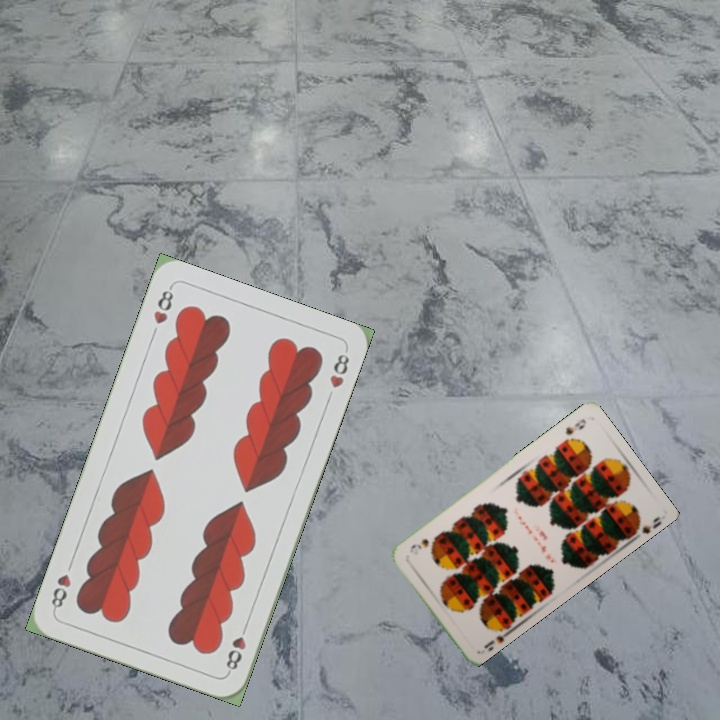H8: (222, 618, 251, 675), (149, 283, 176, 327)
S9: (480, 620, 510, 653), (561, 414, 589, 438)
